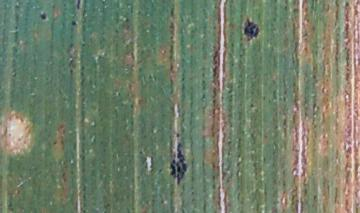tarspot: (168, 142, 188, 184), (244, 18, 259, 42), (40, 13, 48, 20), (176, 132, 181, 139), (71, 21, 77, 25)
